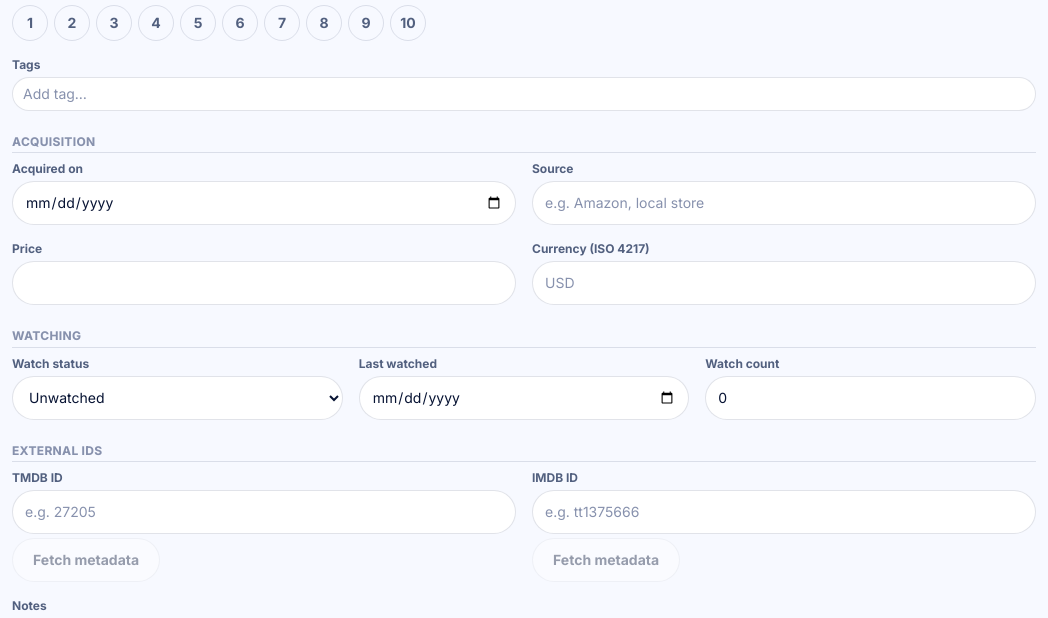
Test case: MovieForm — Fetch metadata by TMDB ID › shows a hint when the provider reports not-configured and leaves the title empty
(page scrolled)
In the field with placeholder "e.g. 27205": (264, 512) [12,490,516,534], type "27205"
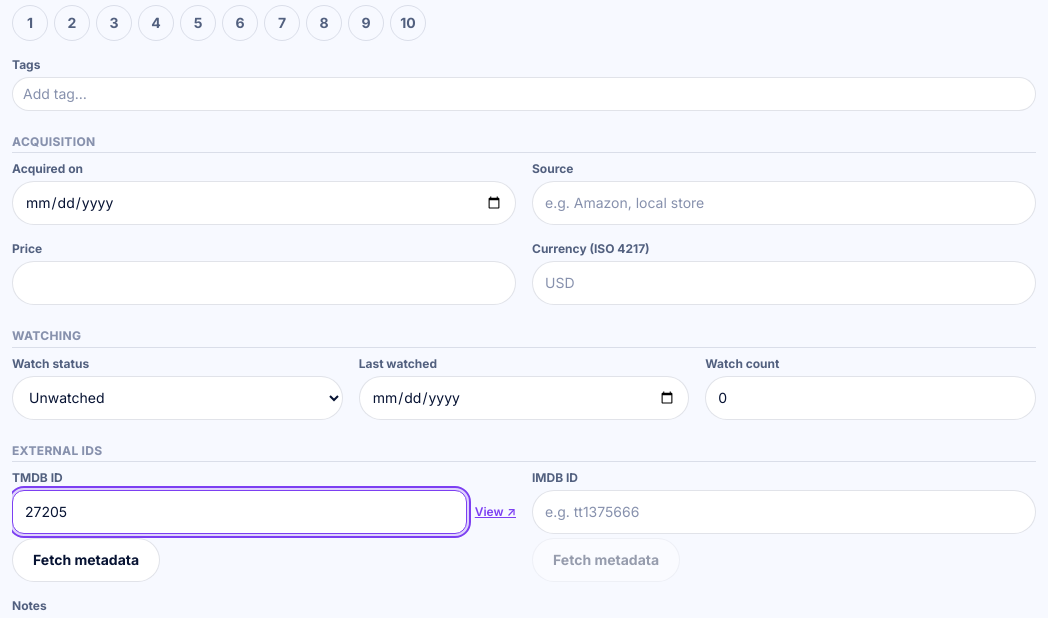
Click the button with aria-label "fetch metadata by tmdb id": (86, 560) [12,538,160,582]
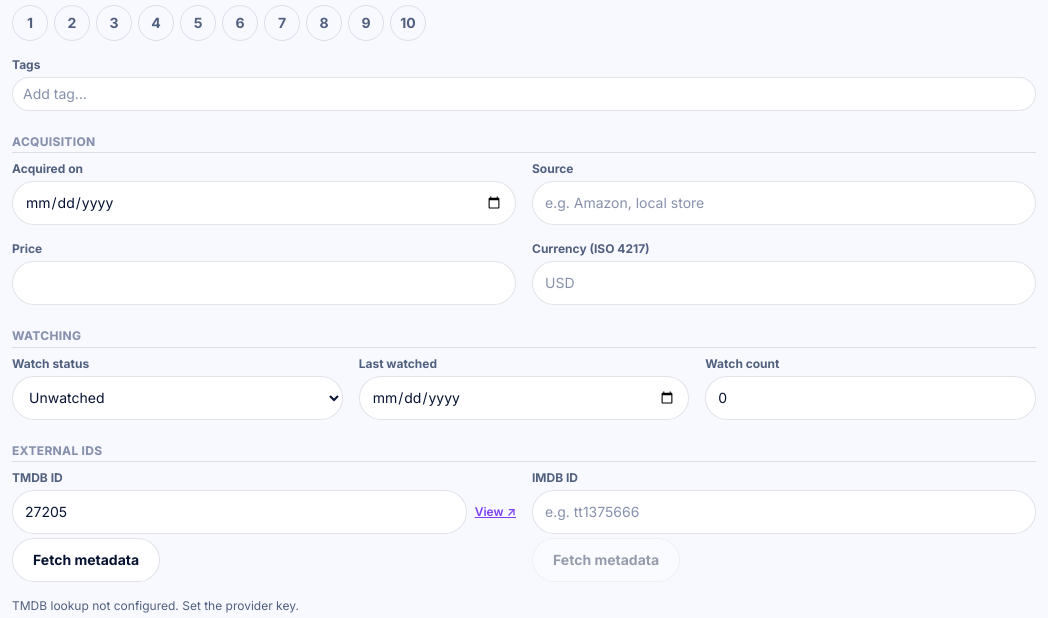
Expected: the text "TMDB lookup not configured. Set the provider key." is shown, [12,598,299,613]
